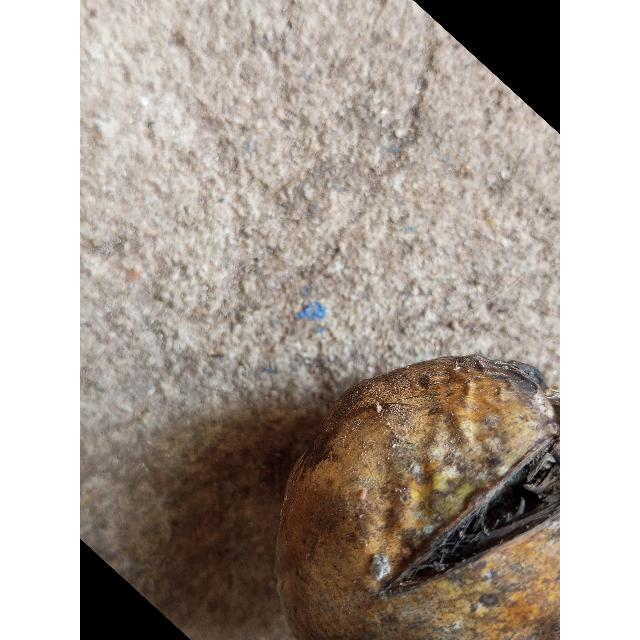damaged: (275, 356, 560, 640)
